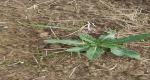osot: (41, 30, 150, 59)
